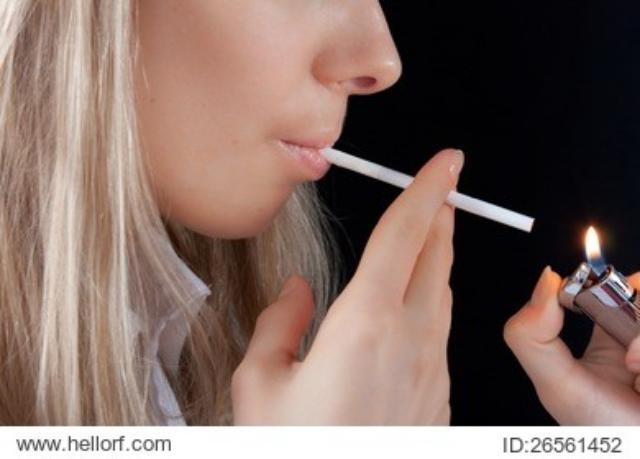Smoking: (314, 138, 540, 242)
